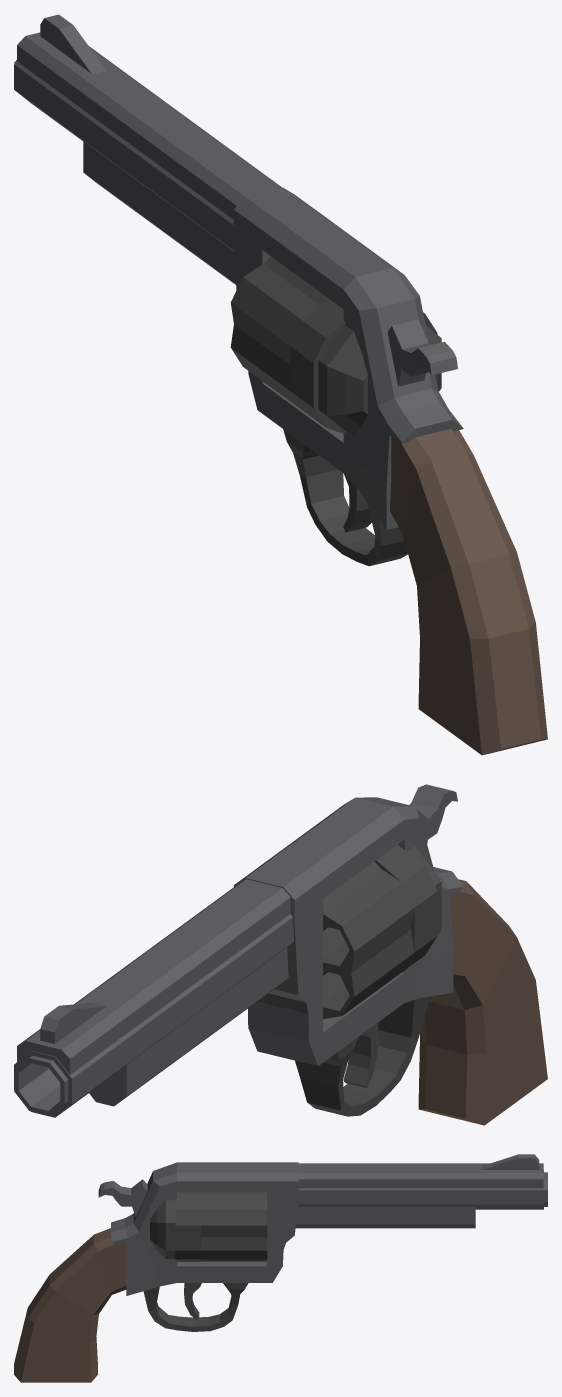
Rendered from rouleau.glb.
3 views of the same model, one above another, from view 1: azimuth 30°, elevation 25°; view 2: azimuth 150°, elevation 25°; view 3: azimuth 270°, elevation 25° (orthographic). The views are drawn at different scales.
Parts seen in each view (by area): view 1: Revolver_1; view 2: Revolver_1; view 3: Revolver_1.
Part boxes in pixels (left/top/right/bottom): Revolver_1: left=14, top=14, right=547, bottom=755; Revolver_1: left=14, top=784, right=547, bottom=1125; Revolver_1: left=14, top=1154, right=547, bottom=1382.
Bounding box in the file's own units: 0.0486 × 0.1468 × 0.327.
